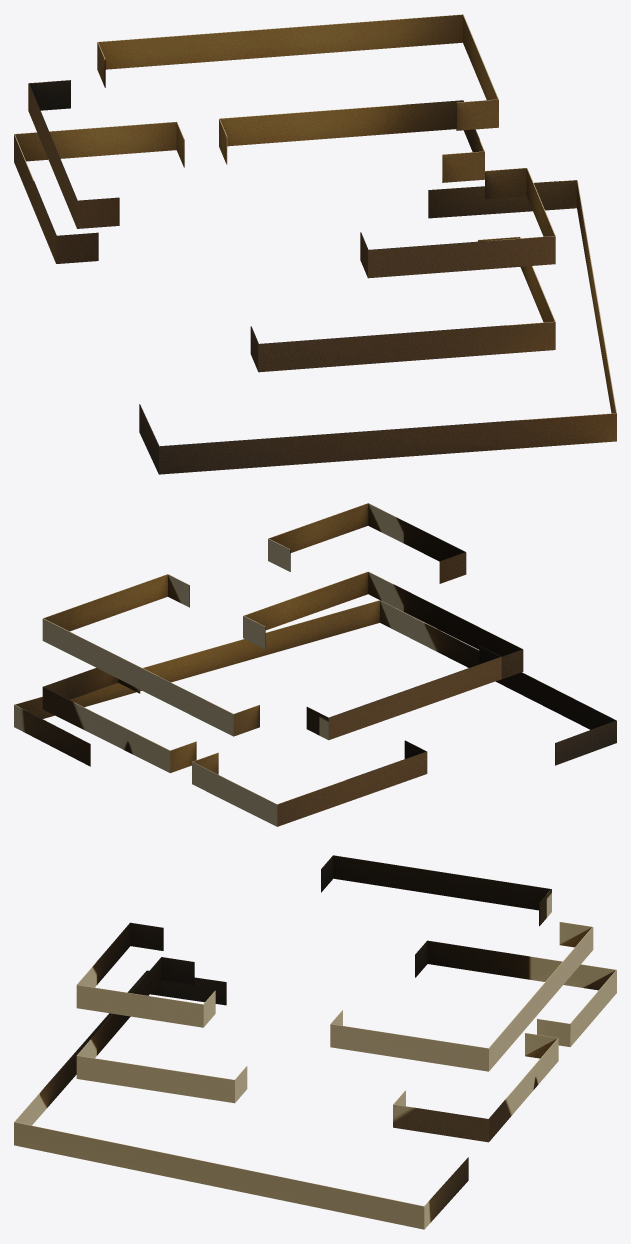
File: Balustrade_01.fbx
The picture shows the model from 3 angles, top to bottom: view 1: azimuth 30°, elevation 25°; view 2: azimuth 150°, elevation 25°; view 3: azimuth 270°, elevation 25°; orthographic projection. The views are drawn at different scales.
Parts seen in each view (by area): view 1: Balustrade_01; view 2: Balustrade_01; view 3: Balustrade_01.
Part boxes in pixels (x1=…): Balustrade_01: x1=14, y1=14, x2=616, y2=474; Balustrade_01: x1=14, y1=503, x2=616, y2=826; Balustrade_01: x1=14, y1=855, x2=616, y2=1229.
Bounding box in the file's own units: 21.92 × 6.53 × 23.66.
Materials: 1 (1 with a texture image).
